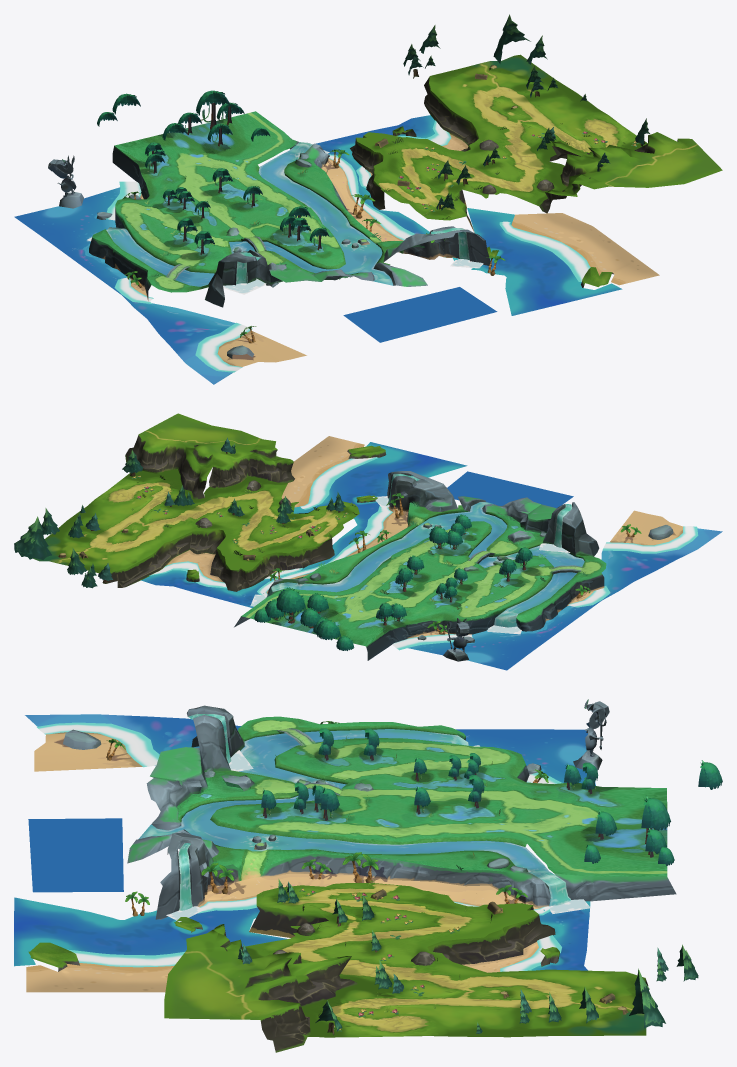
File: SM_LevelMap_Stage1.fbx
3 views of the same model, one above another, from view 1: azimuth 30°, elevation 25°; view 2: azimuth 150°, elevation 25°; view 3: azimuth 270°, elevation 25° (orthographic). The views are drawn at different scales.
Parts seen in each view (by area): view 1: ground, Cliffs, grass_A, Ocean1, cliffs, grass_B, Ocean, river, objects, mangroves, Sea_Foam_Water, sand (+5 smaller); view 2: ground, Cliffs, cliffs, grass_A, grass_B, Ocean1, Ocean, river, objects, mangroves, Sea_Foam_Water, sand (+5 smaller); view 3: ground, grass_A, Cliffs, cliffs, grass_B, Ocean1, Ocean, river, sand, objects, mangroves, Sea_Foam_Water (+5 smaller).
Part boxes in pixels (x1,y1,x2,y2): ground: [356, 54, 647, 220]; Cliffs: [350, 76, 722, 287]; grass_A: [158, 111, 403, 269]; Ocean1: [14, 187, 497, 384]; cliffs: [48, 136, 491, 358]; grass_B: [92, 135, 358, 292]; Ocean: [316, 115, 622, 315]; river: [106, 142, 393, 286]; objects: [374, 14, 649, 211]; mangroves: [100, 91, 329, 254]; Sea_Foam_Water: [105, 154, 445, 372]; sand: [130, 158, 455, 366]; ground: [33, 469, 359, 573]; Cliffs: [106, 413, 386, 591]; cliffs: [234, 471, 673, 661]; grass_A: [241, 502, 491, 634]; grass_B: [332, 512, 606, 646]; Ocean1: [408, 471, 722, 670]; Ocean: [141, 442, 467, 607]; river: [266, 502, 584, 627]; objects: [14, 437, 348, 588]; mangroves: [265, 514, 532, 643]; Sea_Foam_Water: [257, 506, 698, 650]; sand: [266, 507, 683, 637]; ground: [242, 883, 646, 1037]; grass_A: [210, 789, 667, 880]; Cliffs: [26, 905, 648, 1052]; cliffs: [63, 699, 676, 919]; grass_B: [177, 716, 667, 822]; Ocean1: [25, 714, 595, 892]; Ocean: [14, 897, 590, 970]; river: [138, 729, 570, 906]; sand: [34, 732, 543, 909]; objects: [238, 879, 698, 1035]; mangroves: [261, 728, 707, 857]; Sea_Foam_Water: [37, 722, 562, 915].
Bounding box in the file's own units: 53.71 × 6.07 × 44.71.
